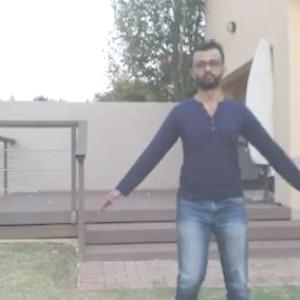land: (108, 54, 294, 299)
